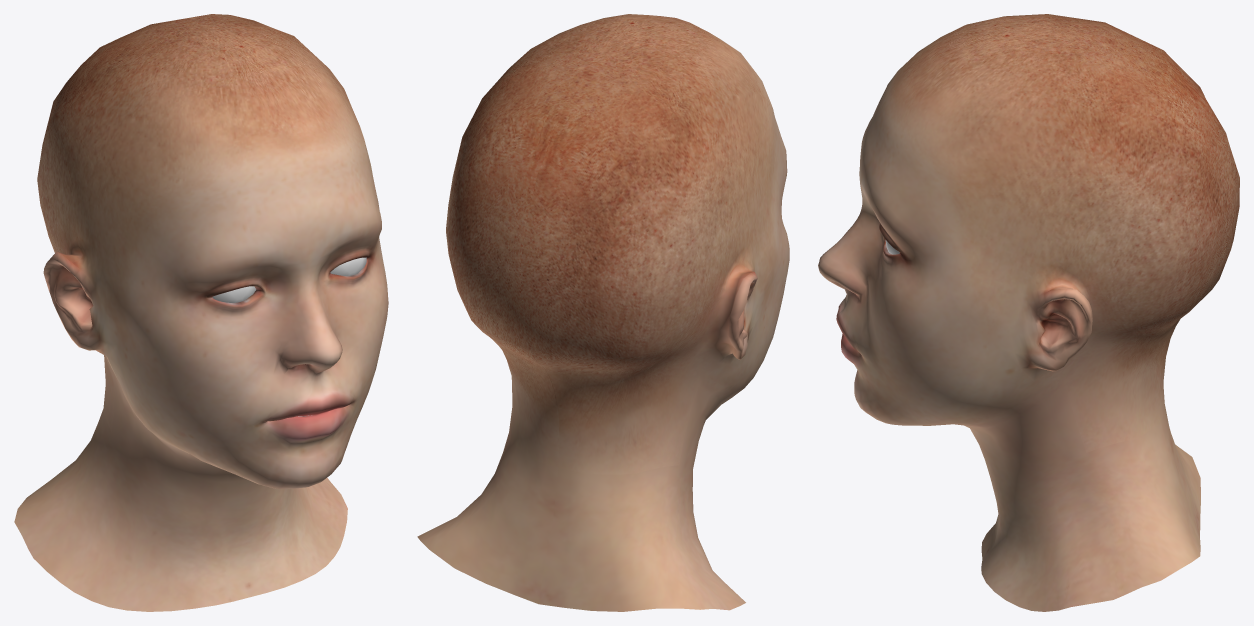
Rendered from head_3.glb.
3 views of the same model, side by side, from view 1: azimuth 30°, elevation 25°; view 2: azimuth 150°, elevation 25°; view 3: azimuth 270°, elevation 25° (orthographic). The views are drawn at different scales.
Parts seen in each view (by area): view 1: JODIE HEAD_3, human.Low-Poly_6; view 2: JODIE HEAD_3; view 3: JODIE HEAD_3.
Boxes of the visible parts, box(x1,y1,x2,y2) form: JODIE HEAD_3: box(14, 14, 388, 611); human.Low-Poly_6: box(212, 257, 366, 302); JODIE HEAD_3: box(417, 14, 789, 611); JODIE HEAD_3: box(818, 14, 1239, 611).
Size of the model in its own units: 2.53 by 4.39 by 3.17.
Materials: 2 (1 with a texture image).
